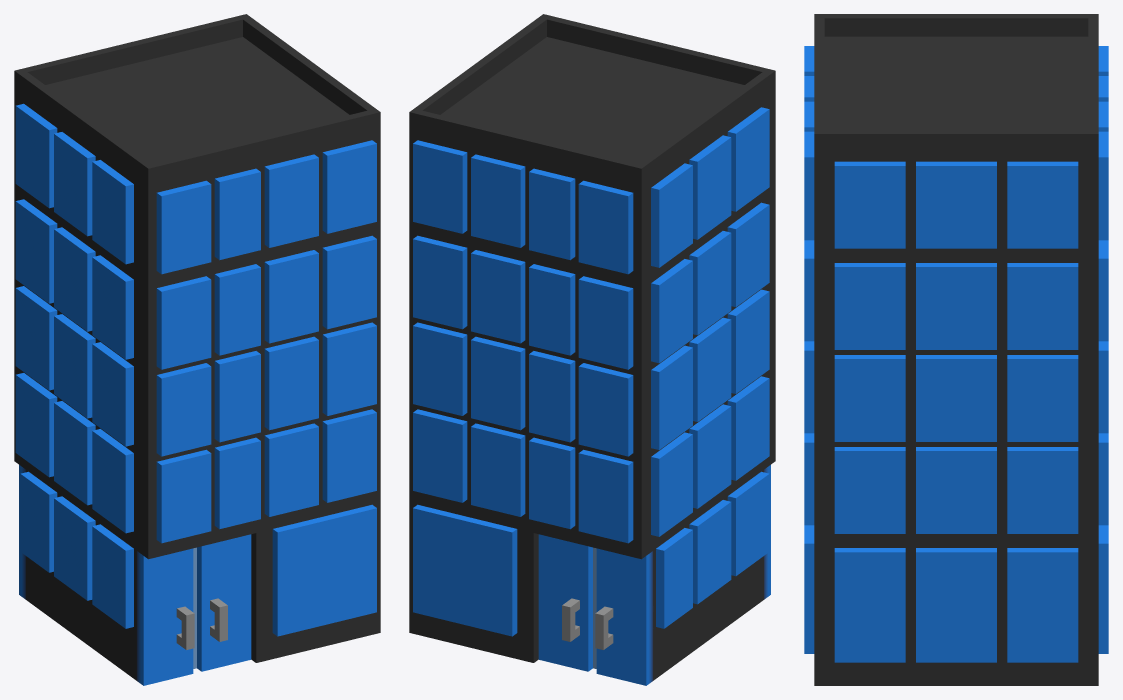
The model's file is TallBuilding1.dae.
3 views of the same model, side by side, from view 1: azimuth 30°, elevation 25°; view 2: azimuth 150°, elevation 25°; view 3: azimuth 270°, elevation 25° (orthographic). The views are drawn at different scales.
Visible parts, largest first — view 1: Matrix; view 2: Matrix; view 3: Matrix.
Part boxes in pixels (box(x1,y1,x2,y2)): Matrix: box(14, 14, 380, 685); Matrix: box(409, 14, 775, 685); Matrix: box(804, 14, 1108, 685).
Bounding box in the file's own units: 30 × 60 × 30.
1 material, 1 textured.
